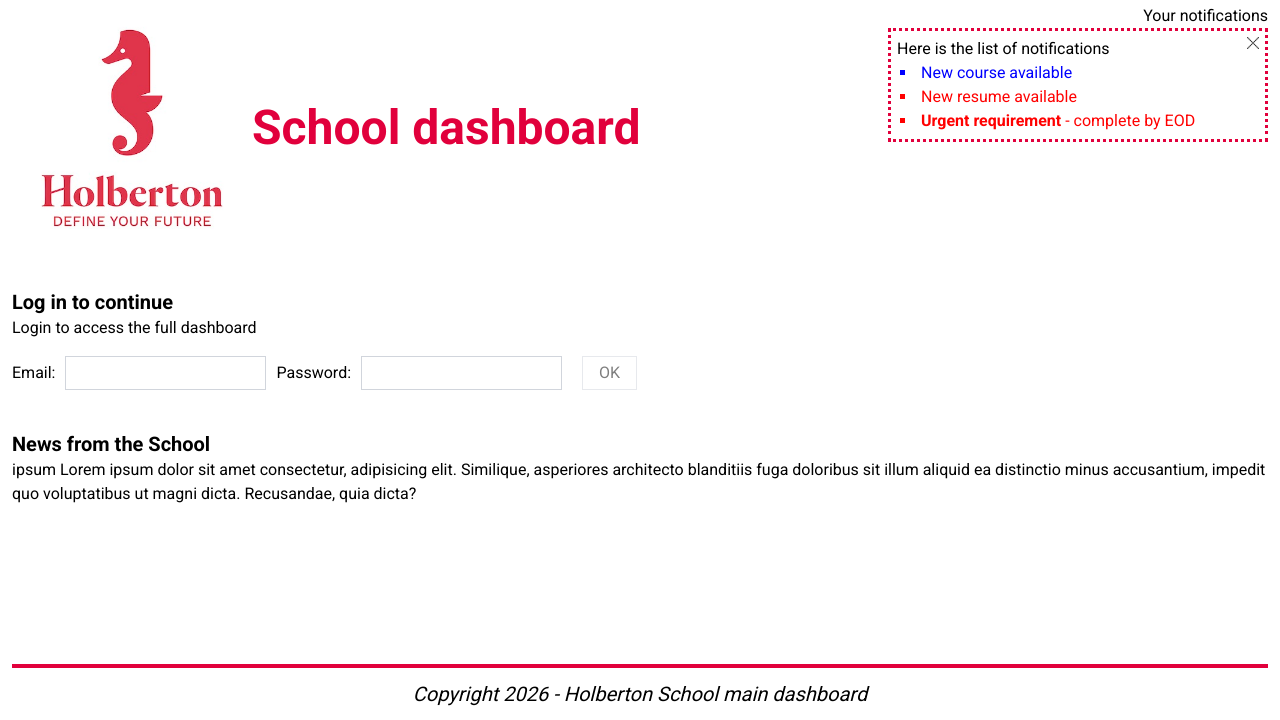
Test: Renders the CourseList component when isLoggedIn is true
The image size is (1280, 720).
Type "gina.linetti@nypd.com" into the field labelled "Email:".
click(166, 373); type("gina.linetti@nypd.com")  # box [66,356,266,390]
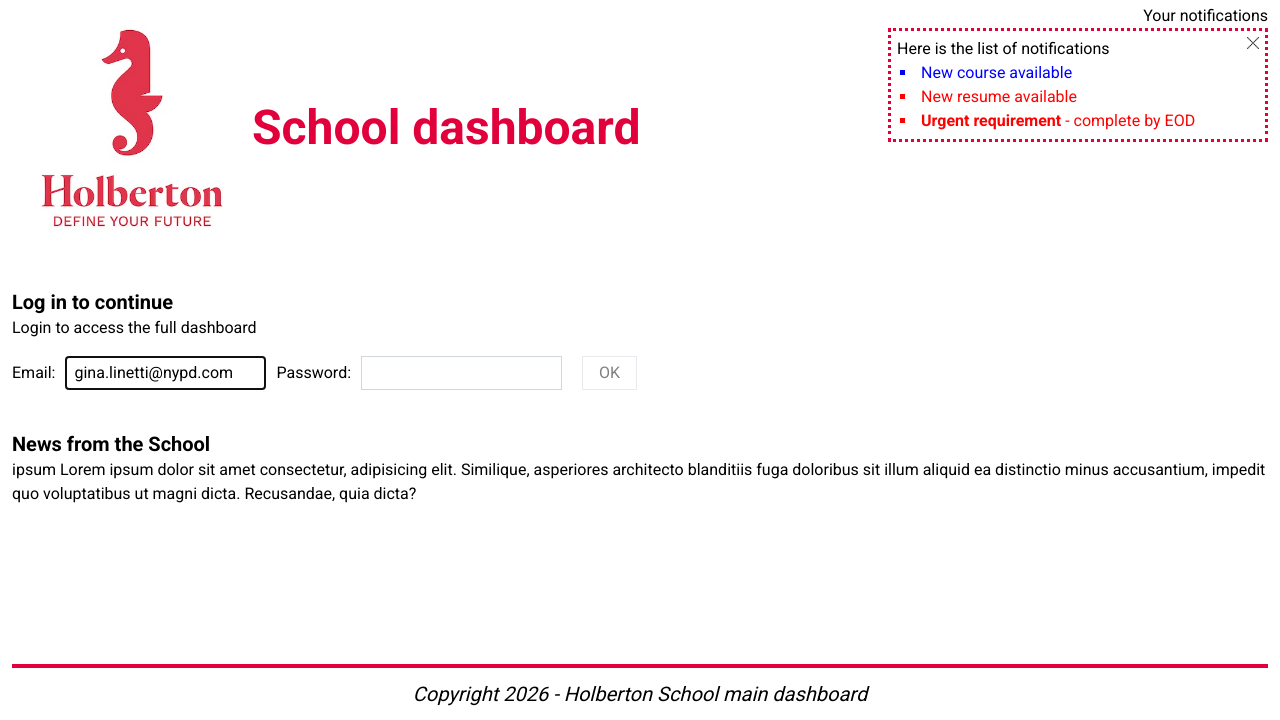
Type "verybadpassword" into the password field labelled "Password:".
click(462, 373); type("verybadpassword")  # box [361,356,562,390]
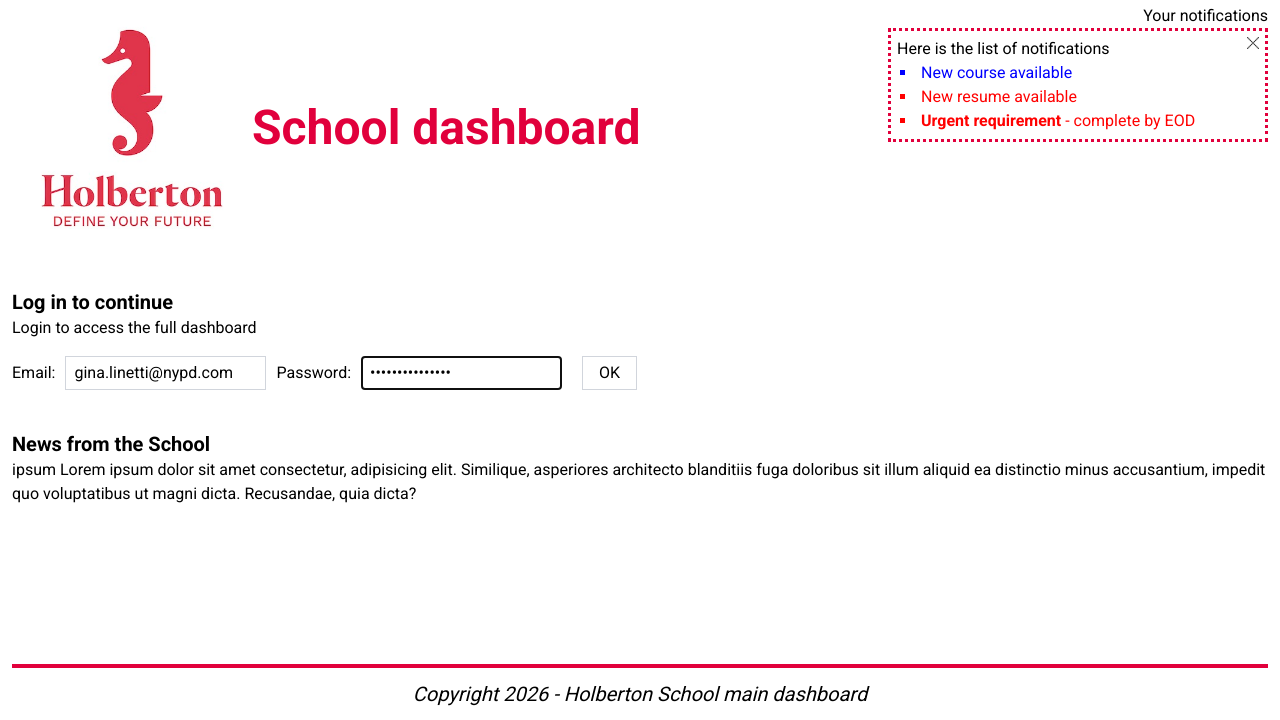
Click the button "OK".
click(610, 373)  # box [582,356,637,390]
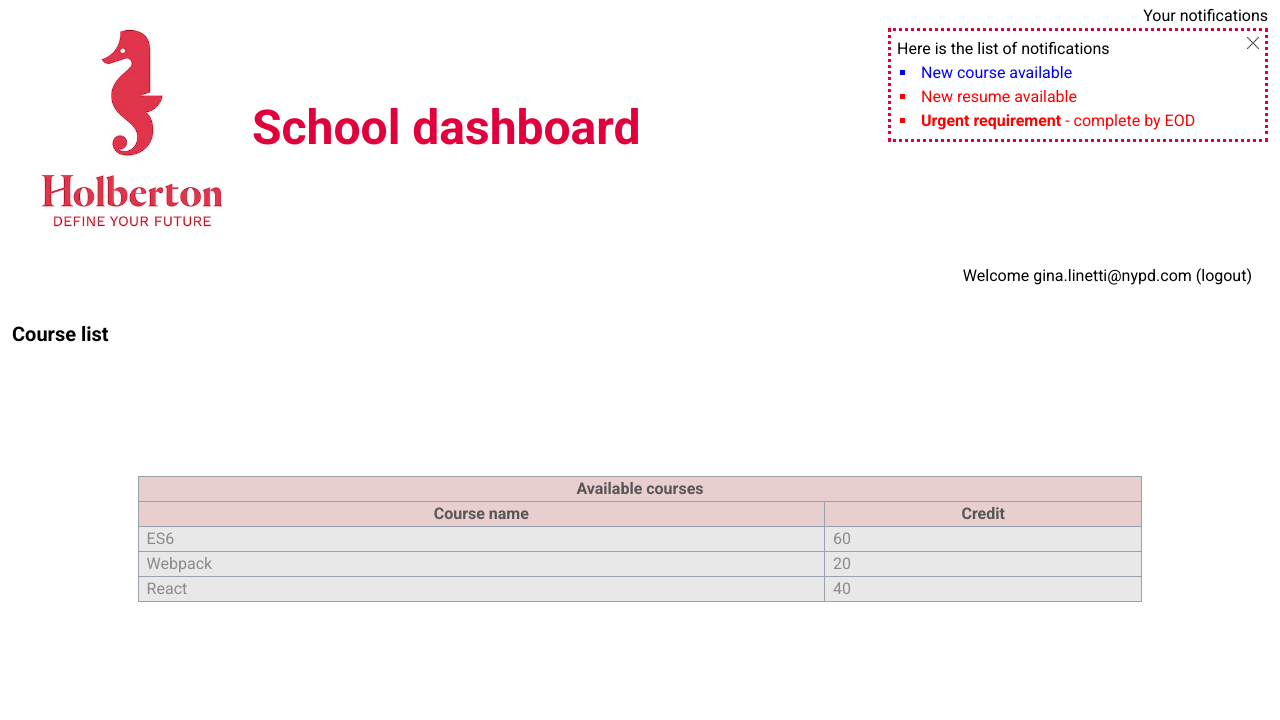
Expected: the table is shown, [138,476,1142,602]
